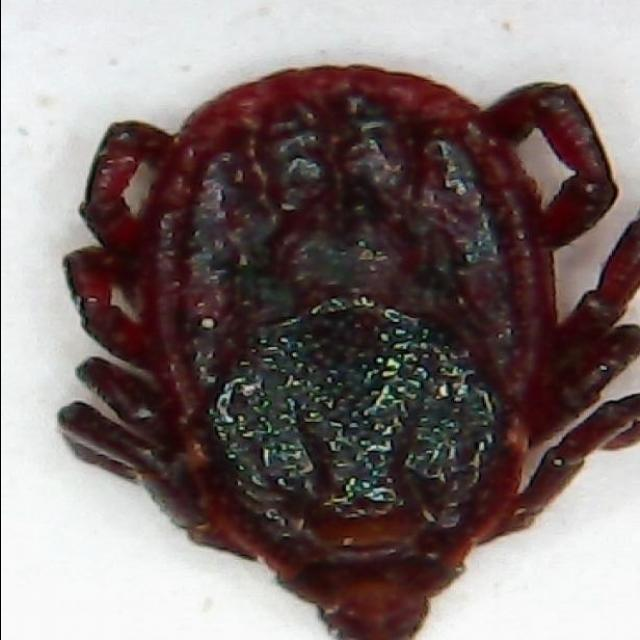Rhipicephalus Sanguineus-F: (58, 69, 640, 640)
